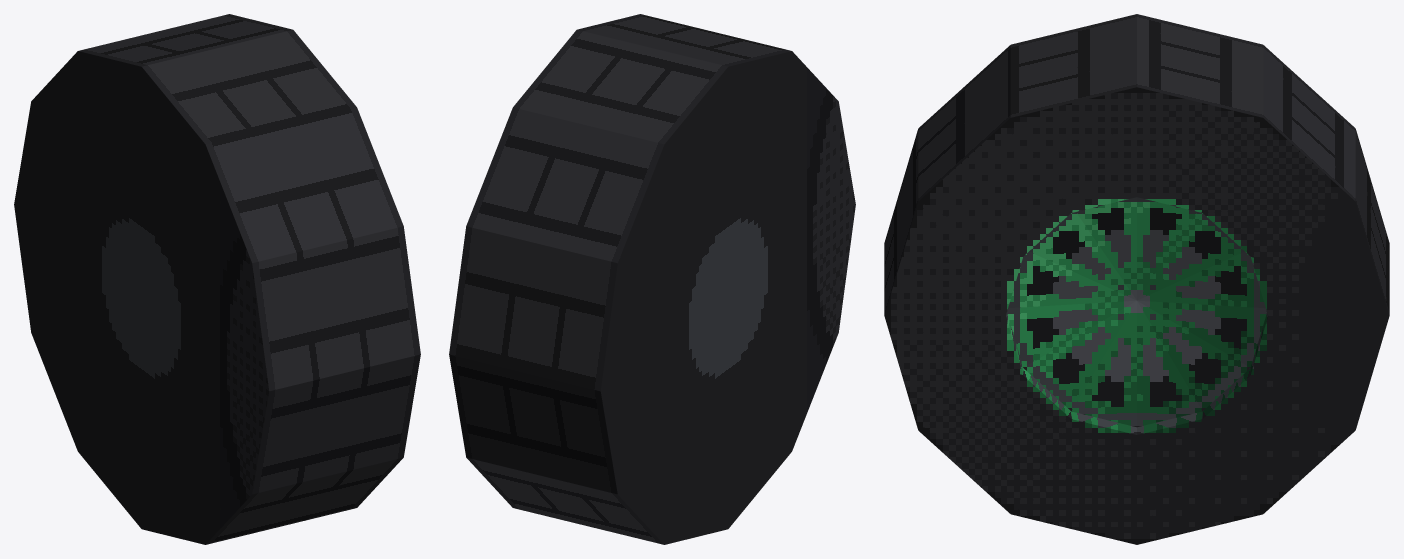
The model's file is wheel_window.glb.
3 renders of one model, left to right at view 1: azimuth 30°, elevation 25°; view 2: azimuth 150°, elevation 25°; view 3: azimuth 270°, elevation 25°, orthographic.
Parts seen in each view (by area): view 1: wheel_window; view 2: wheel_window; view 3: wheel_window.
Part boxes in pixels (<box>): wheel_window: <box>14,14,420,544</box>; wheel_window: <box>449,14,855,544</box>; wheel_window: <box>884,14,1389,544</box>.
Size of the model in its own units: 0.285 by 0.8308 by 0.8308.
1 material, 1 textured.
